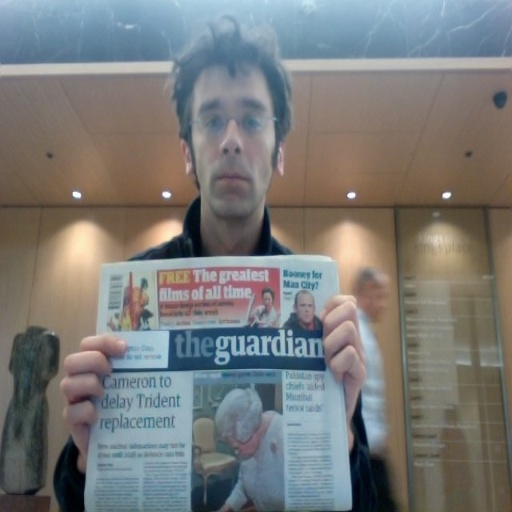hand: (59, 336, 124, 460), (316, 288, 375, 406)
